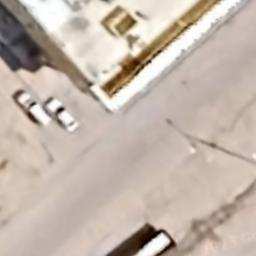sedan: (42, 94, 81, 136)
truck: (129, 227, 177, 256)
van: (14, 92, 46, 128)
